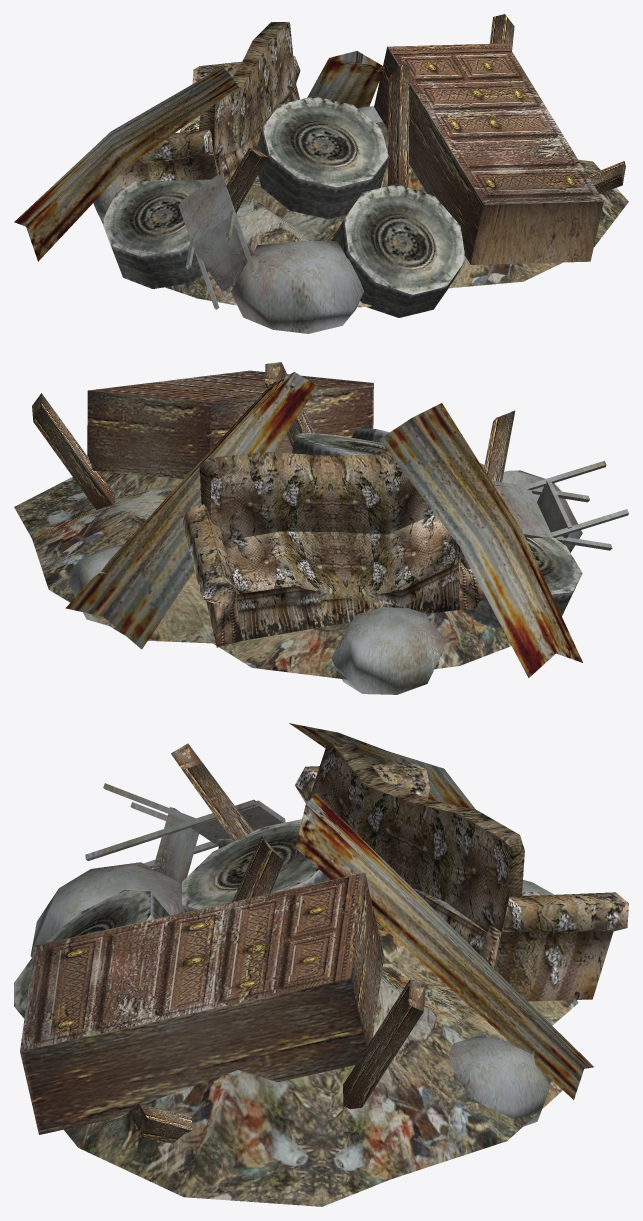
File: RdBlk1X.glb
3 renders of one model, top to bottom at view 1: azimuth 30°, elevation 25°; view 2: azimuth 150°, elevation 25°; view 3: azimuth 270°, elevation 25°, orthographic. The views are drawn at different scales.
Visible parts, largest first — view 1: _RdBlk1X; view 2: _RdBlk1X; view 3: _RdBlk1X.
Part boxes in pixels (box(x1,y1,x2,y2)): _RdBlk1X: box(14, 14, 628, 333); _RdBlk1X: box(14, 362, 628, 694); _RdBlk1X: box(14, 723, 628, 1206).
Bounding box in the file's own units: 6.23 × 2.11 × 4.55.
1 material, 1 textured.
